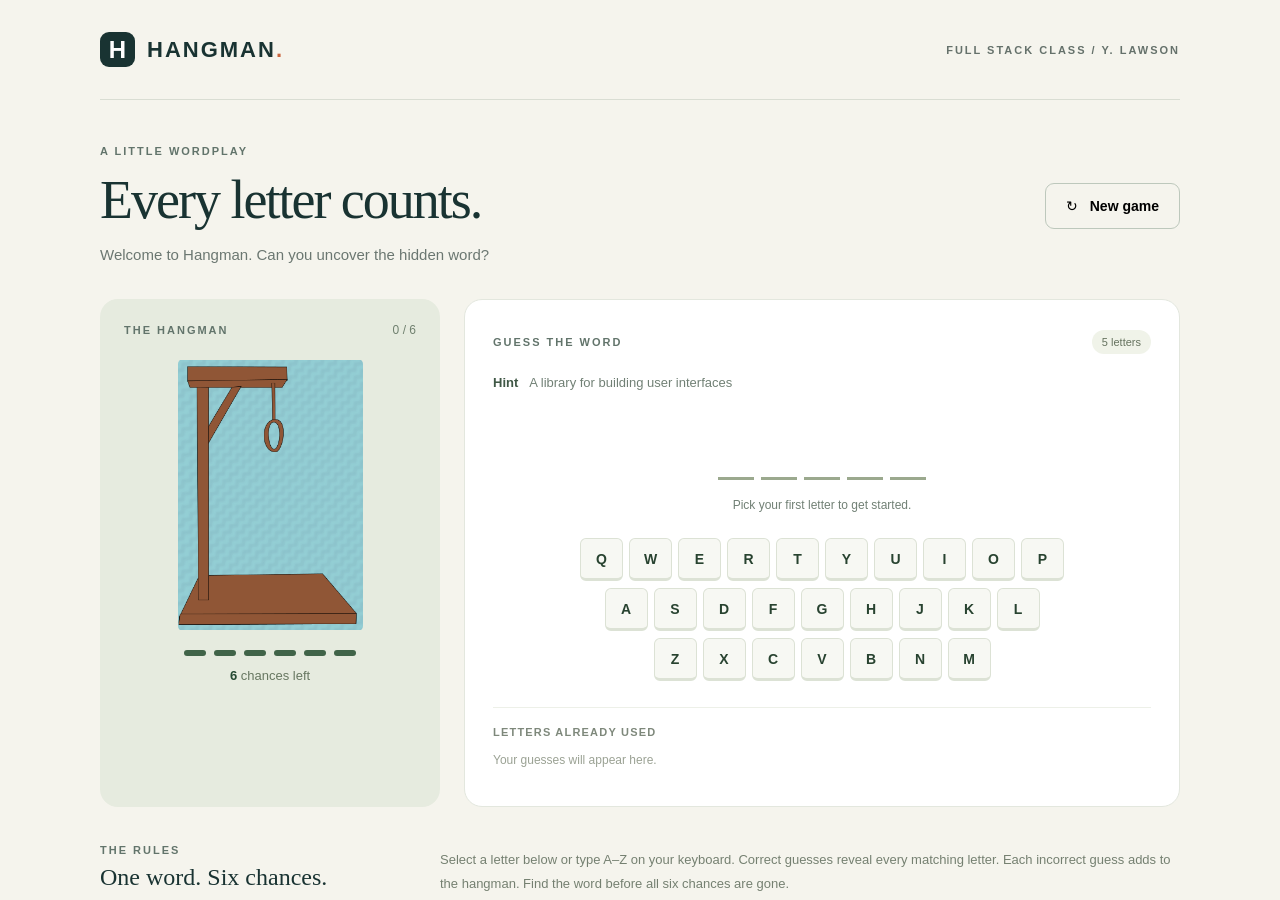
Test: click and keyboard input reveal letters, ignore duplicates, and win
Expected: the element named "Word: _ _ _ _ _" is shown, [718, 436, 926, 480]
Click the button named "Guess R". click: {"x": 748, "y": 560}
box: [727, 538, 770, 581]
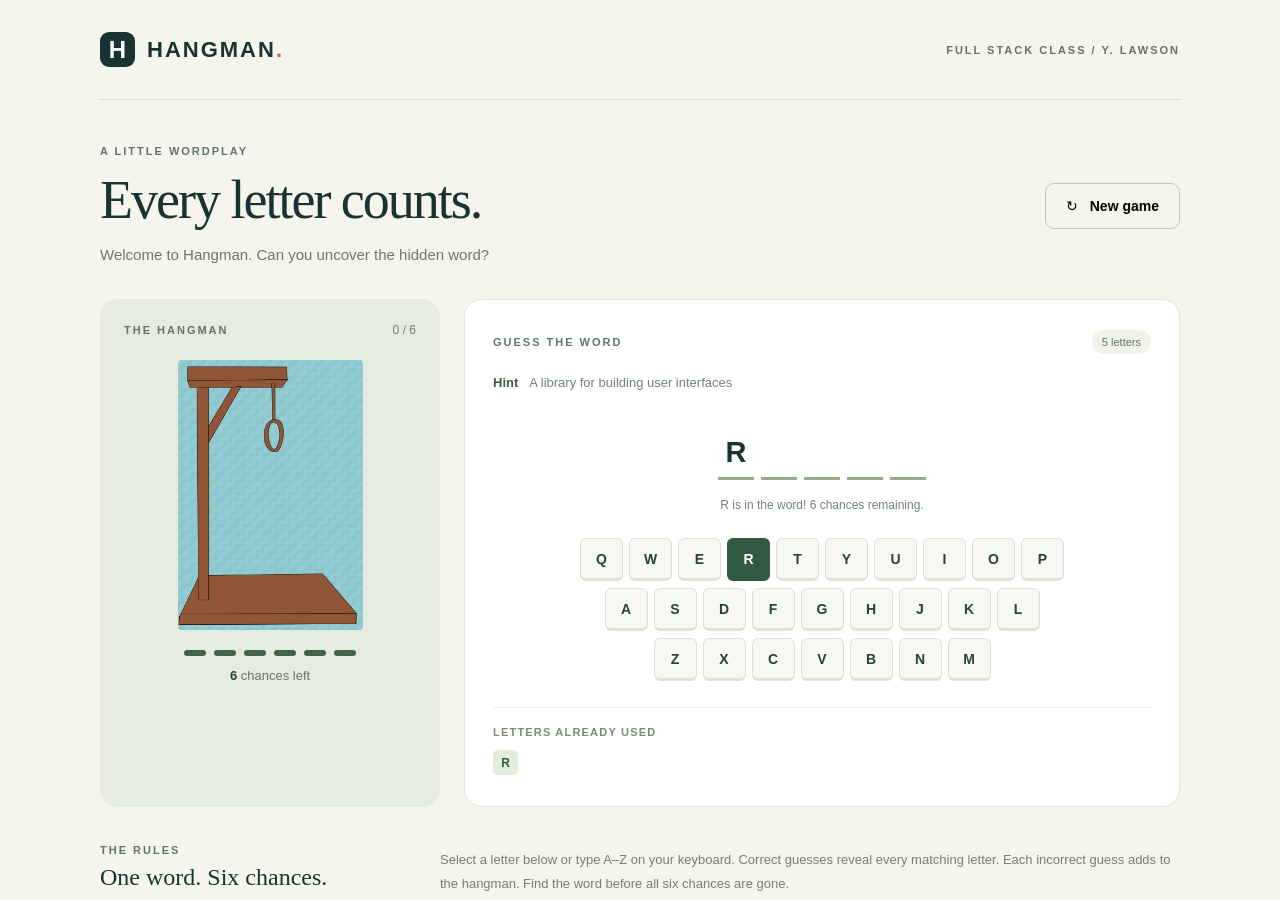
Press r
Now the number of elements with class "chosen-letter" is 1, box [493, 750, 518, 775]
Press E
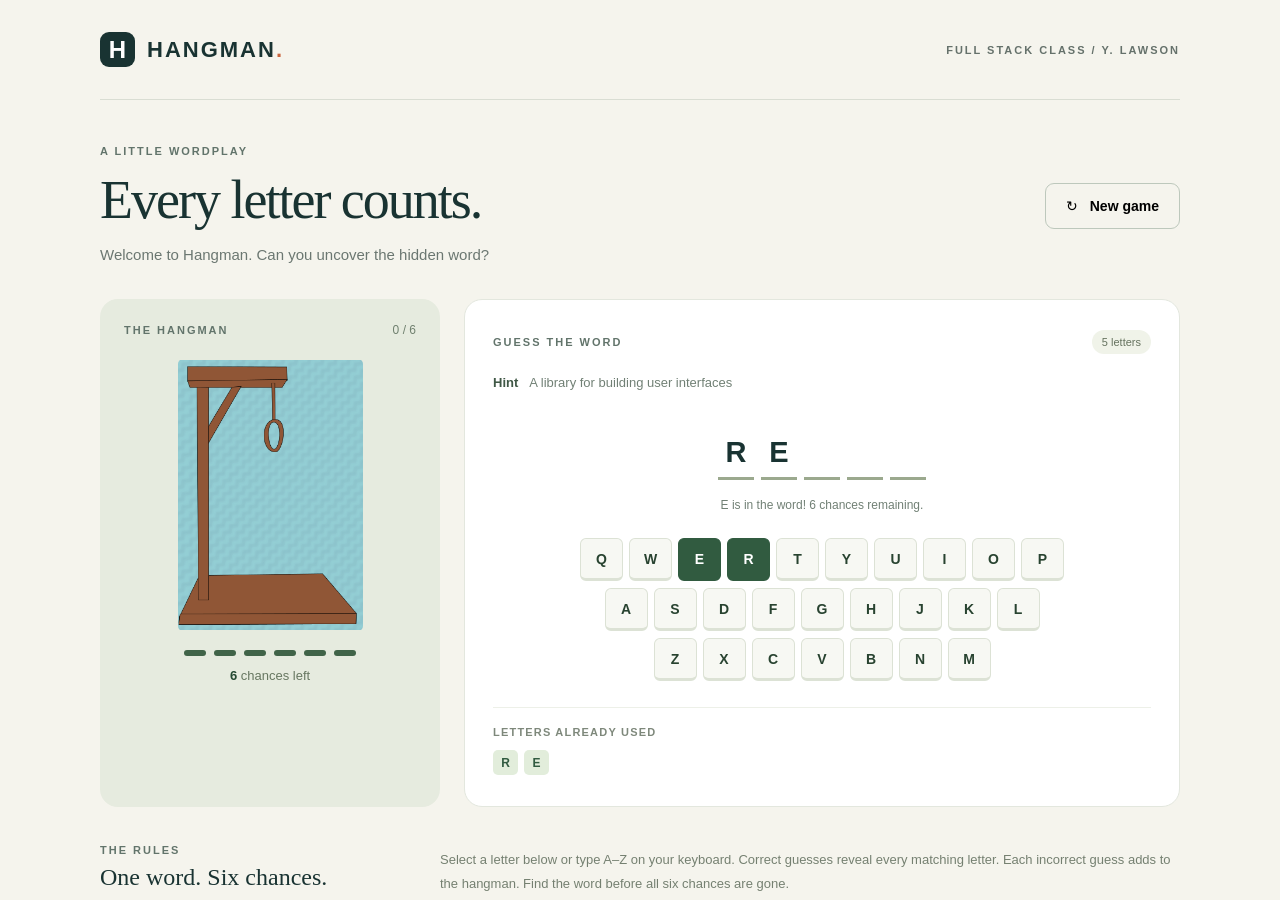
Press A
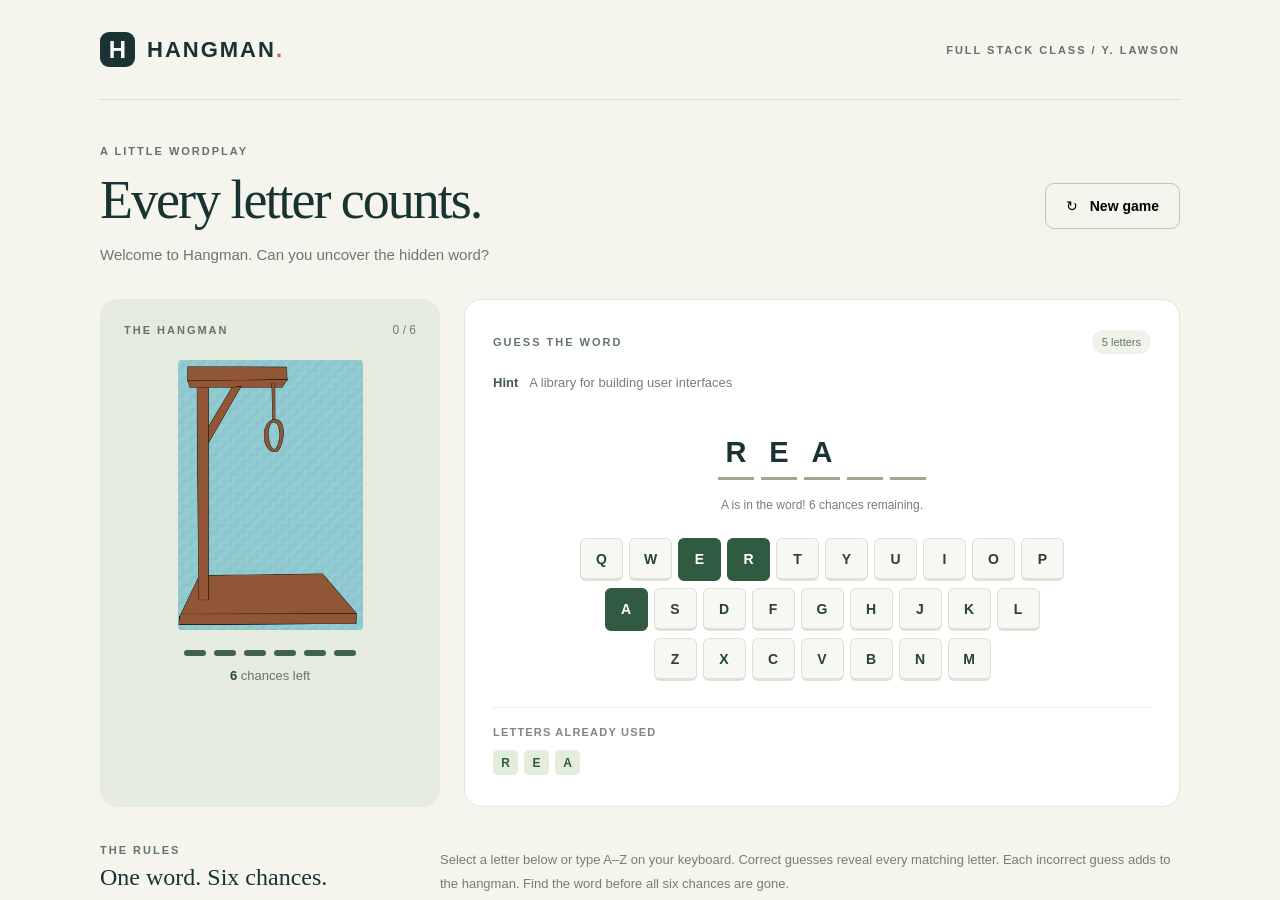
Press C
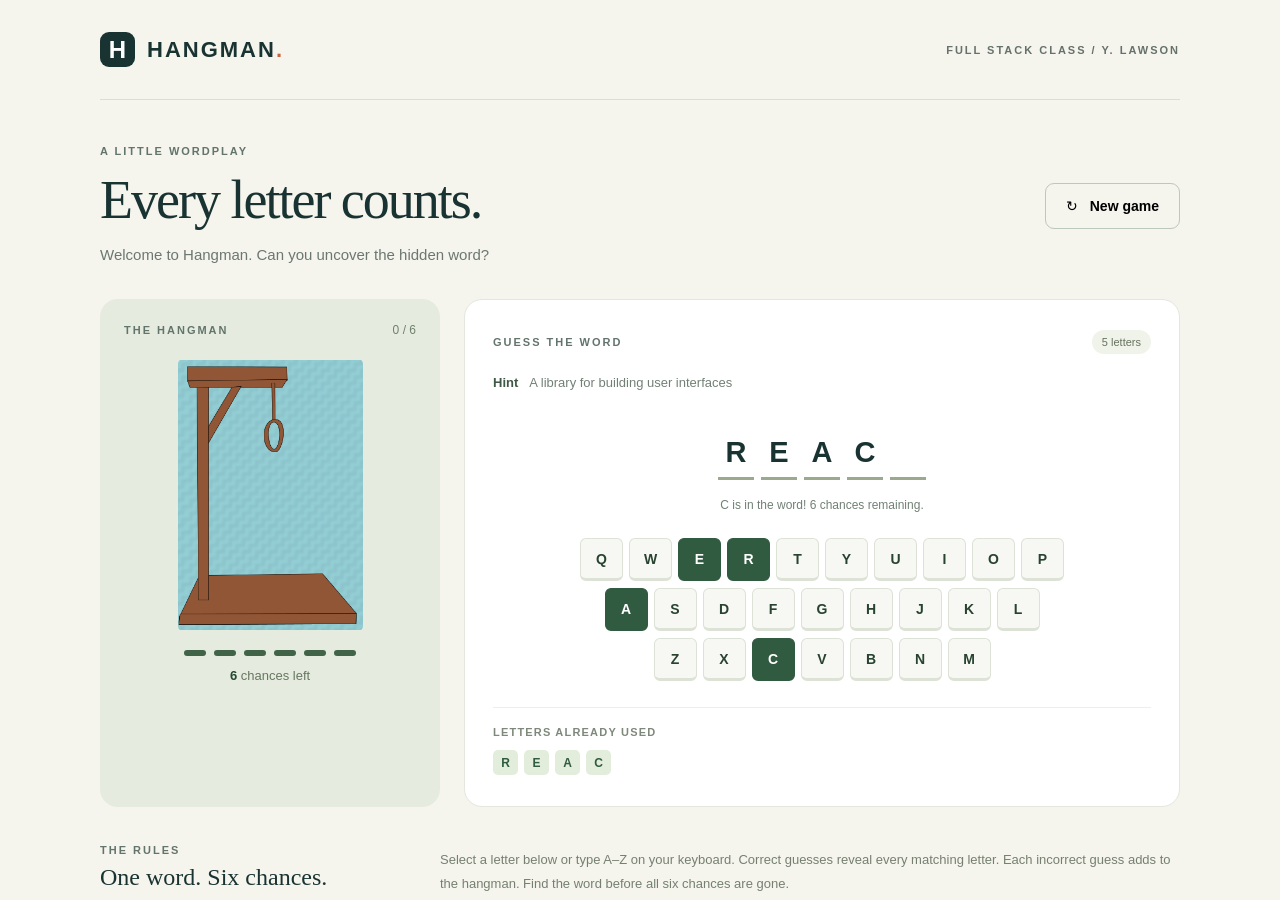
Press T
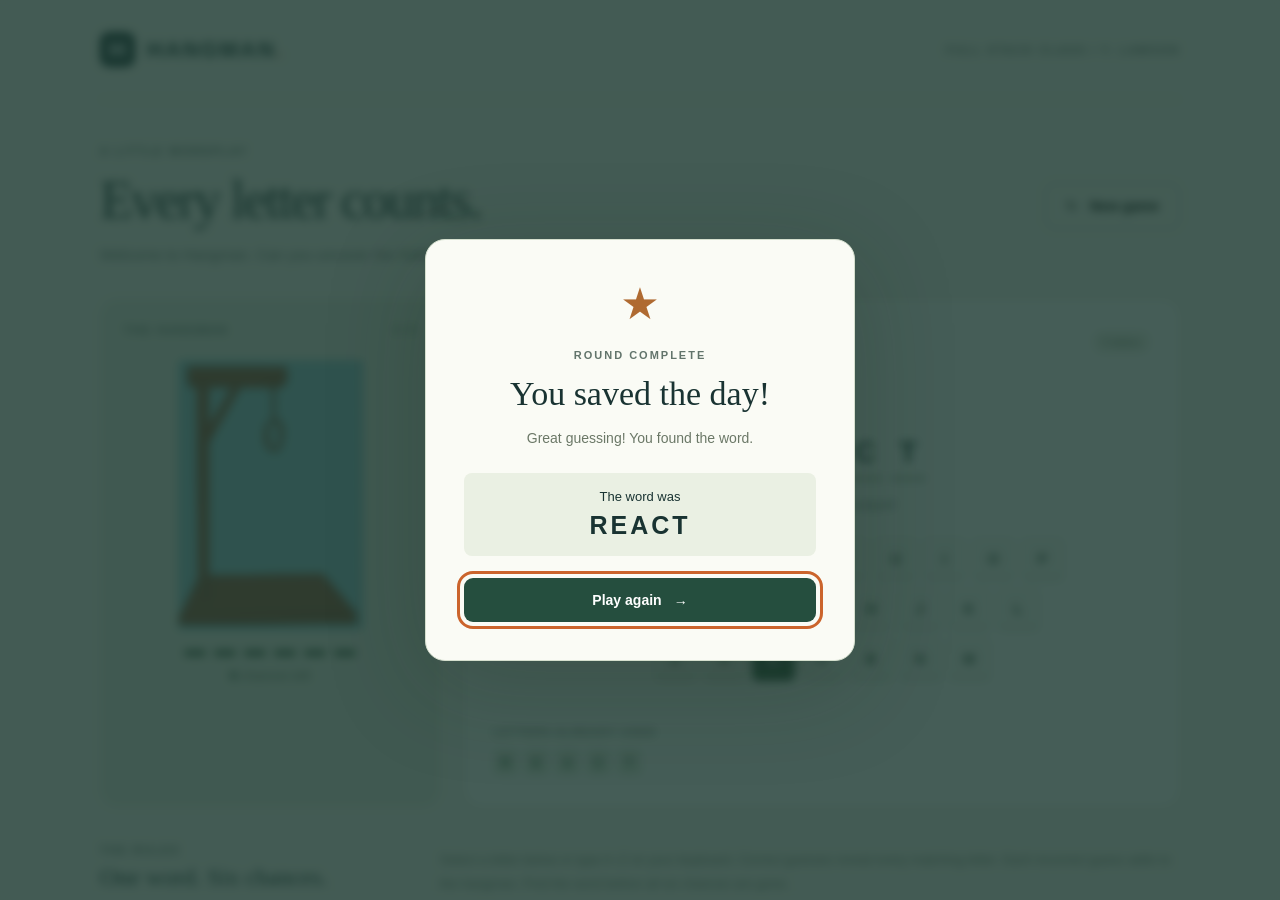
Now the dialog shows "You saved the day!", box [510, 375, 770, 412]
Click the button "Play again →". click: {"x": 640, "y": 600}
box: [464, 578, 816, 622]
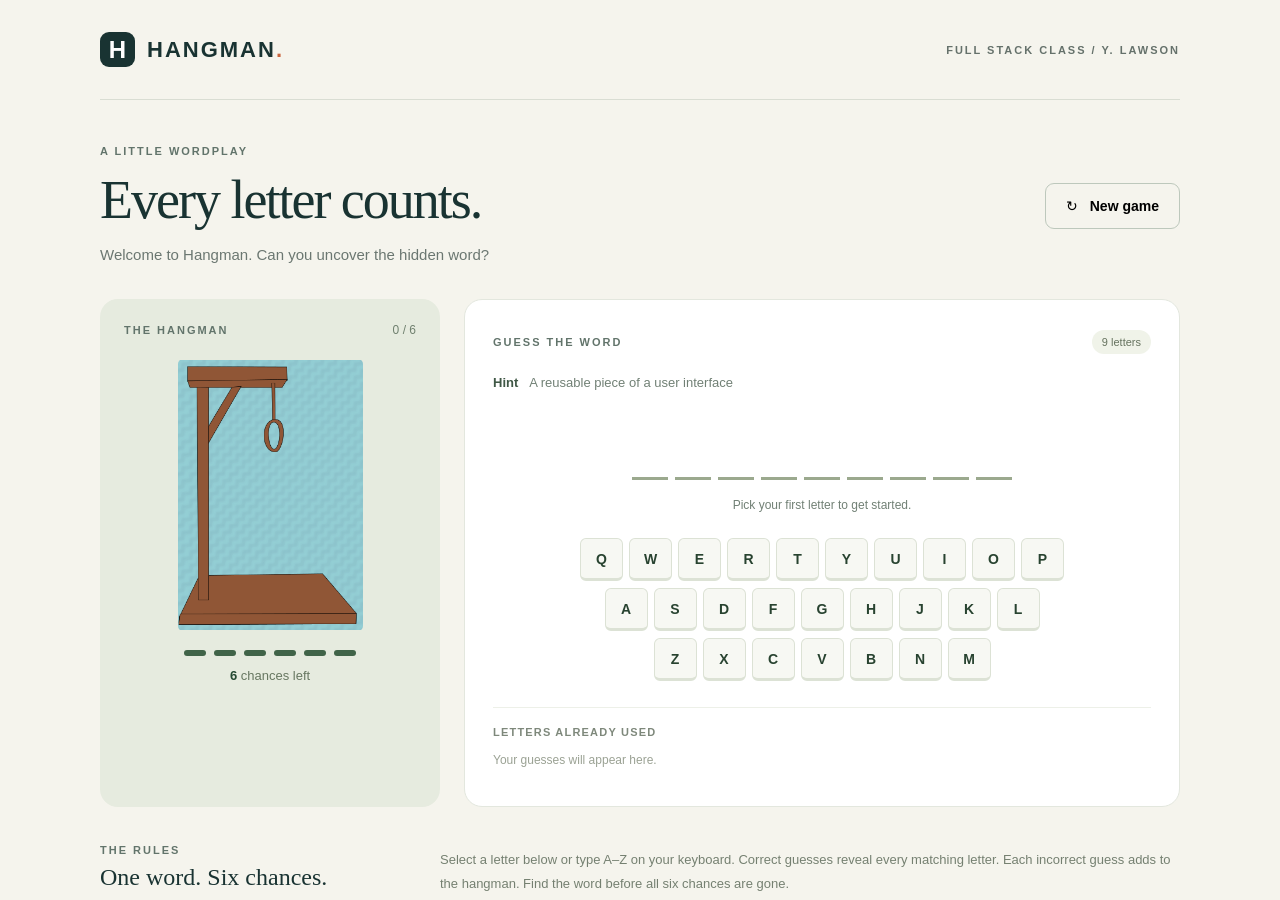
Now the dialog is gone
Now no elements with class "chosen-letter" are shown
Now the number of elements with class "letter-slot" is 9
